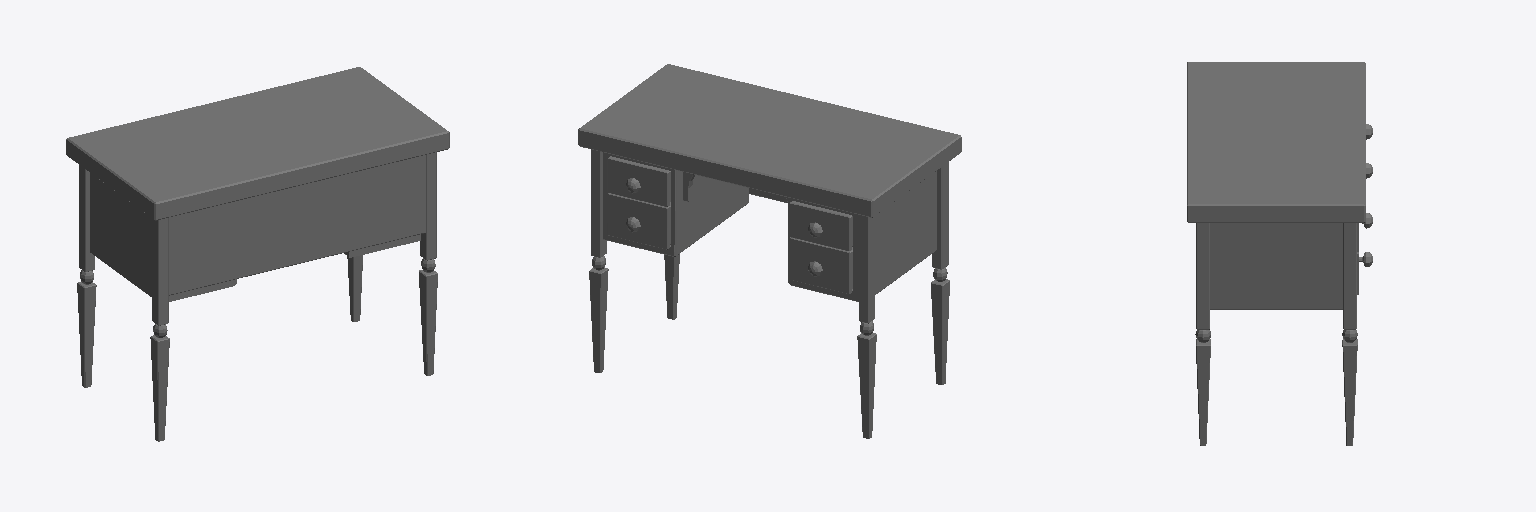
File: DeskV1.obj
The picture shows the model from 3 angles: view 1: azimuth 30°, elevation 25°; view 2: azimuth 150°, elevation 25°; view 3: azimuth 270°, elevation 25°; orthographic projection.
Visible parts, largest first — view 1: Desk Desk Plate1, Desk Desk Backwall, Desk Desk Box_r, Desk Feet Desk polySurface7, Desk polySurface6 Feet Desk, Desk Feet Desk polySurface8, Desk Feet Desk polySurface5; view 2: Desk Desk Plate1, Desk Desk Box_r, Desk Desk Box_l, Desk Feet Desk polySurface8, Desk Feet Desk polySurface5, Desk Feet Desk polySurface7, Desk Drawer2, Desk Drawer4, Drawer1 Desk, Desk Drawer3, Desk polySurface6 Feet Desk; view 3: Desk Desk Plate1, Desk Desk Box_l, Desk Feet Desk polySurface5, Desk polySurface6 Feet Desk.
Part boxes in pixels (x1,y1,x2,y2): Desk Desk Plate1: (66, 67, 449, 220); Desk Desk Backwall: (169, 155, 425, 295); Desk Desk Box_r: (90, 173, 236, 301); Desk Feet Desk polySurface7: (150, 218, 169, 441); Desk polySurface6 Feet Desk: (419, 152, 437, 375); Desk Feet Desk polySurface8: (77, 165, 96, 387); Desk Feet Desk polySurface5: (347, 255, 362, 321); Desk Desk Plate1: (578, 64, 961, 217); Desk Desk Box_r: (788, 171, 936, 301); Desk Desk Box_l: (603, 152, 748, 256); Desk Feet Desk polySurface8: (857, 215, 876, 438); Desk Feet Desk polySurface5: (589, 149, 608, 372); Desk Feet Desk polySurface7: (931, 162, 949, 384); Desk Drawer2: (607, 193, 670, 249); Desk Drawer4: (789, 237, 852, 293); Drawer1 Desk: (607, 156, 670, 206); Desk Drawer3: (790, 201, 852, 250); Desk polySurface6 Feet Desk: (664, 254, 679, 319); Desk Desk Plate1: (1187, 62, 1365, 222); Desk Desk Box_l: (1210, 223, 1342, 309); Desk Feet Desk polySurface5: (1342, 223, 1357, 445); Desk polySurface6 Feet Desk: (1195, 223, 1210, 445).
Size of the model in its own units: 1.29 by 1.03 by 0.7069.